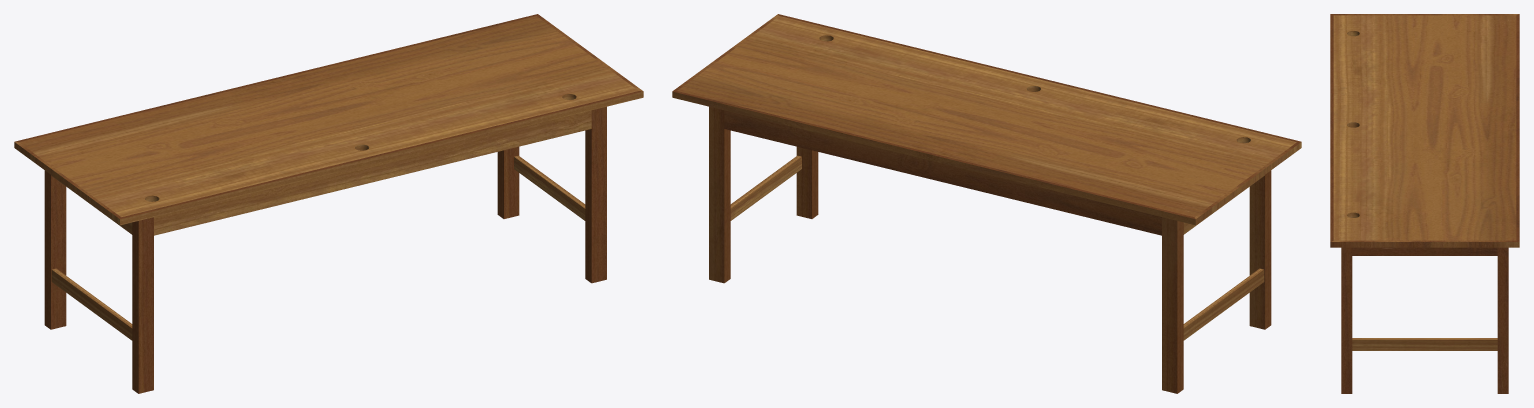
Rendered from Table_01.dae.
3 views of the same model, side by side, from view 1: azimuth 30°, elevation 25°; view 2: azimuth 150°, elevation 25°; view 3: azimuth 270°, elevation 25° (orthographic). The views are drawn at different scales.
Parts seen in each view (by area): view 1: Table_01; view 2: Table_01; view 3: Table_01.
Part boxes in pixels (left/top/right/bottom): Table_01: left=14, top=14, right=643, bottom=393; Table_01: left=672, top=14, right=1301, bottom=393; Table_01: left=1330, top=14, right=1519, bottom=393.
Size of the model in its own units: 2.23 by 0.783 by 0.755.
1 material, 1 textured.
